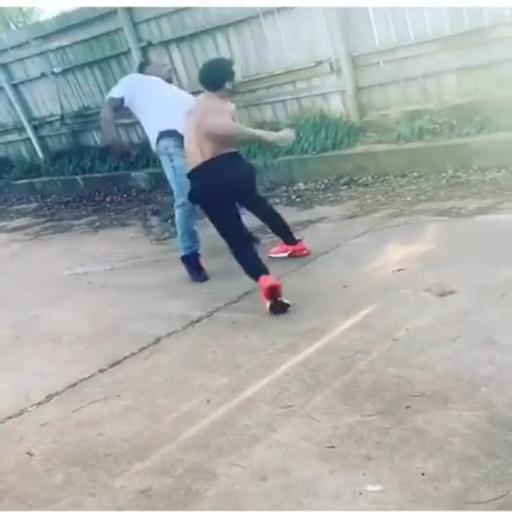violencia: (69, 52, 330, 323)
